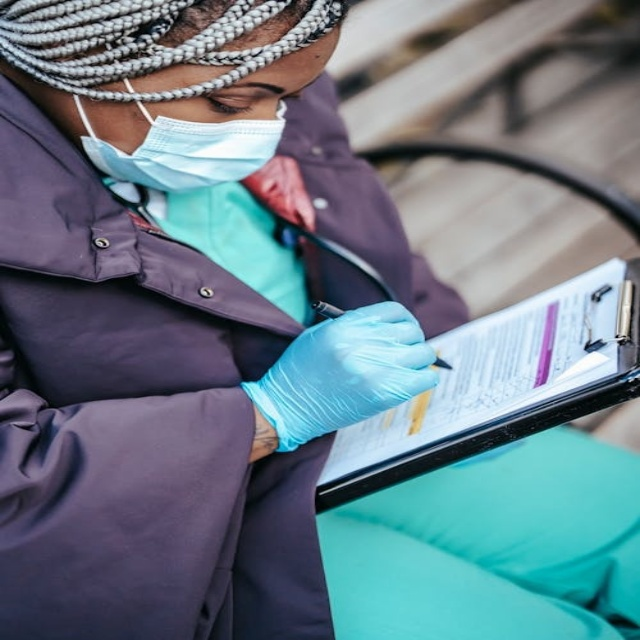Guantes: (241, 300, 441, 451)
Mascara: (76, 81, 290, 193)
Sin_gafas: (150, 76, 320, 119)
